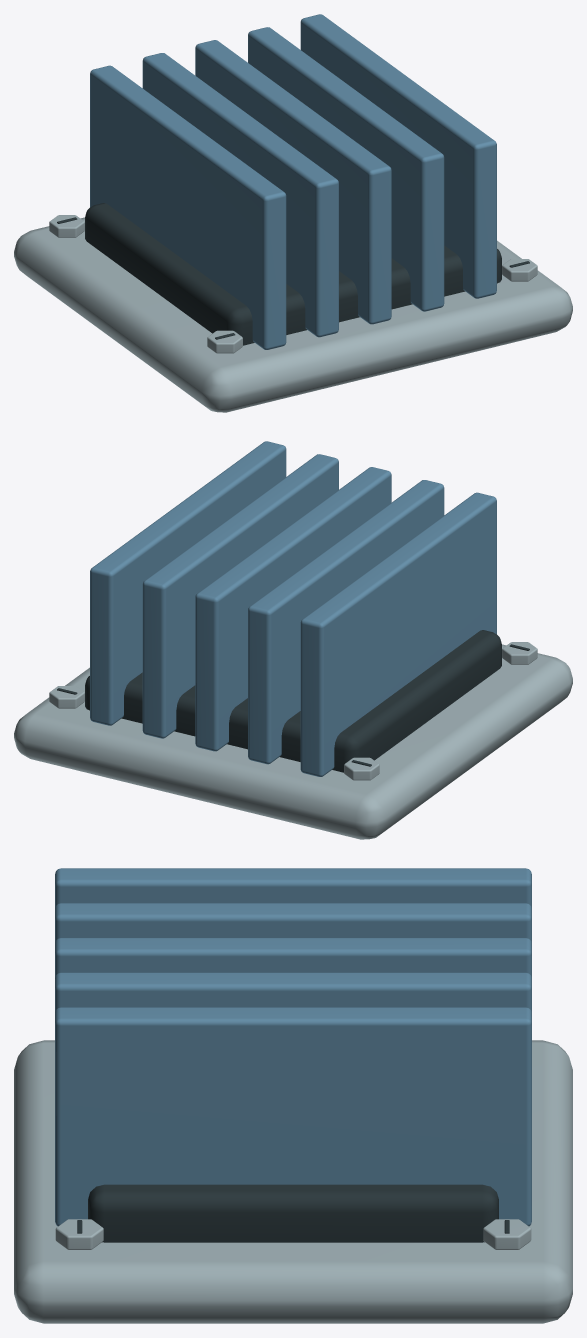
Rendered from SM_VHeatSink.fbx.
The picture shows the model from 3 angles, top to bottom: view 1: azimuth 30°, elevation 25°; view 2: azimuth 150°, elevation 25°; view 3: azimuth 270°, elevation 25°; orthographic projection. The views are drawn at different scales.
Parts seen in each view (by area): view 1: SM_VHeatSink; view 2: SM_VHeatSink; view 3: SM_VHeatSink.
Part boxes in pixels (x1,y1,x2,y2): SM_VHeatSink: (14,14,572,412); SM_VHeatSink: (14,441,572,839); SM_VHeatSink: (14,868,572,1323).
Size of the model in its own units: 35 by 34 by 18.
